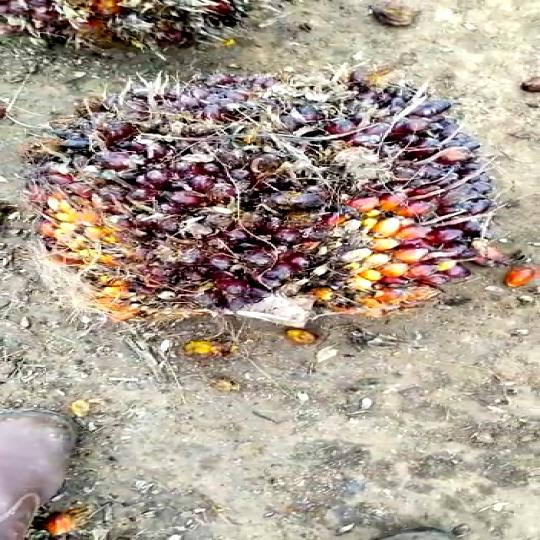mentah: (44, 56, 497, 362)
